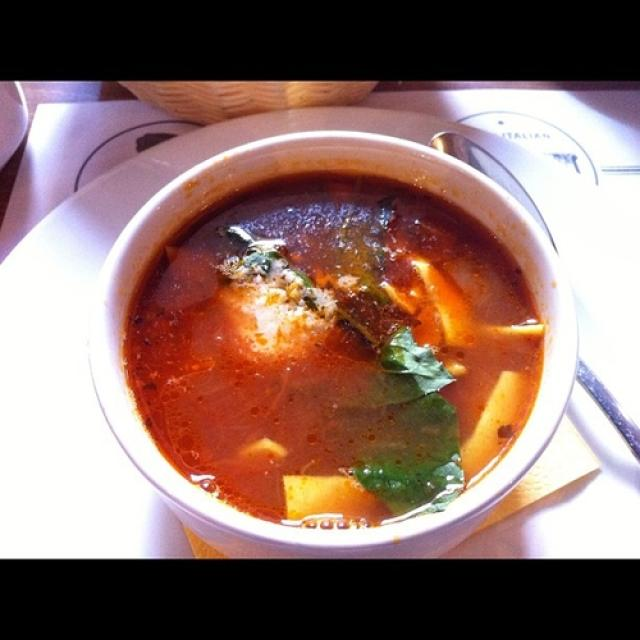汤锅炖物: (105, 151, 557, 525)
